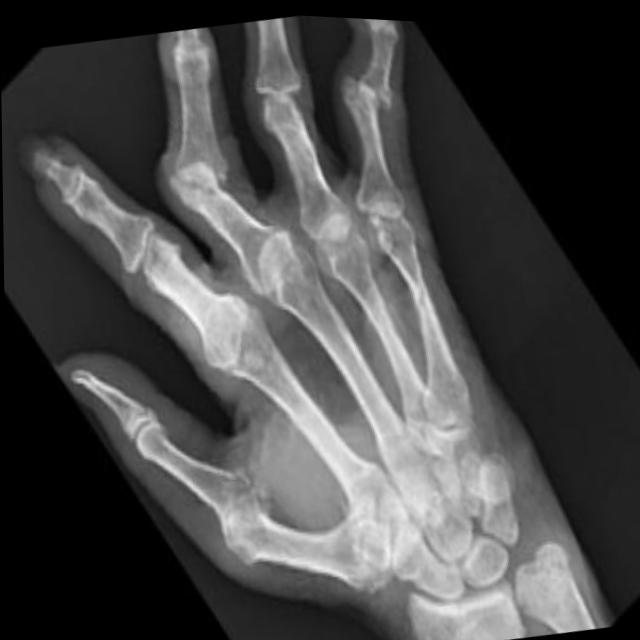fracture: (159, 136, 237, 207), (331, 50, 411, 110)
